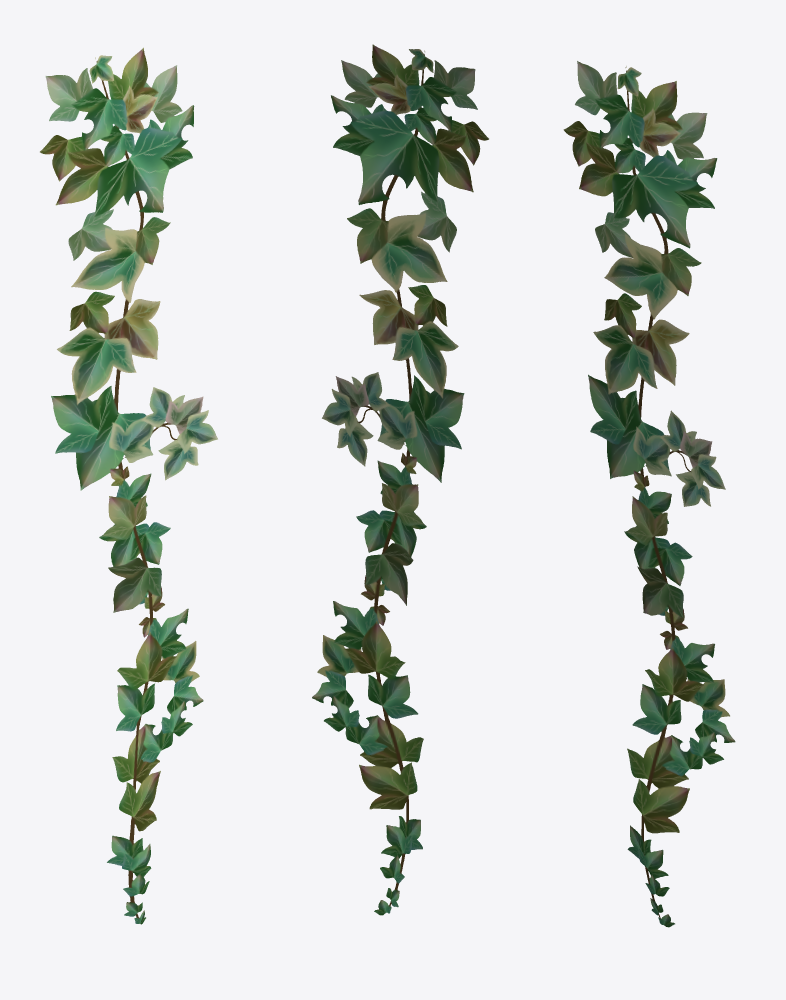
The model's file is Lierres_long.fbx.
The picture shows the model from 3 angles, left to right: view 1: azimuth 30°, elevation 25°; view 2: azimuth 150°, elevation 25°; view 3: azimuth 330°, elevation 25°; orthographic projection. The views are drawn at different scales.
Parts seen in each view (by area): view 1: Lierres_long; view 2: Lierres_long; view 3: Lierres_long.
Part boxes in pixels (x1,y1,x2,y2): Lierres_long: (40, 47, 217, 924); Lierres_long: (312, 44, 488, 915); Lierres_long: (563, 61, 735, 927).
Size of the model in its own units: 46.32 by 188 by 6.01.
